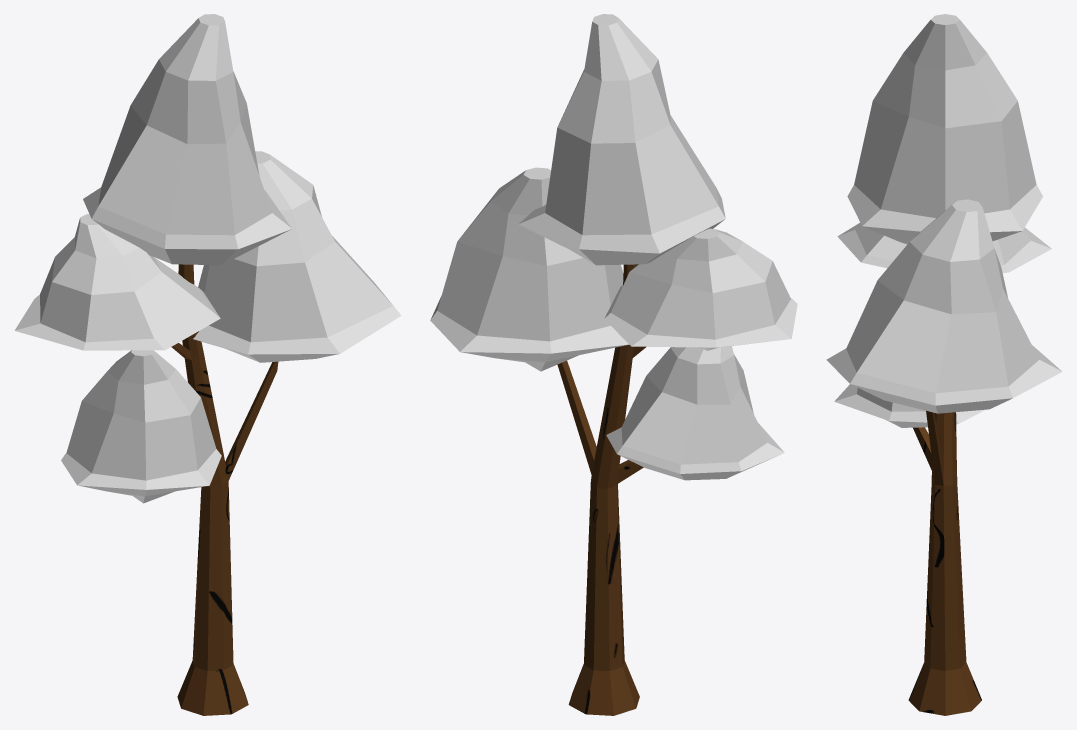
Rendered from SM_Tree_2.fbx.
3 views of the same model, side by side, from view 1: azimuth 30°, elevation 25°; view 2: azimuth 150°, elevation 25°; view 3: azimuth 270°, elevation 25° (orthographic).
Parts seen in each view (by area): view 1: SM_Tree_2; view 2: SM_Tree_2; view 3: SM_Tree_2.
Part boxes in pixels (x1,y1,x2,y2): SM_Tree_2: (14,14,401,715); SM_Tree_2: (430,14,797,715); SM_Tree_2: (826,14,1062,715).
Size of the model in its own units: 11.84 by 6.84 by 21.7.
